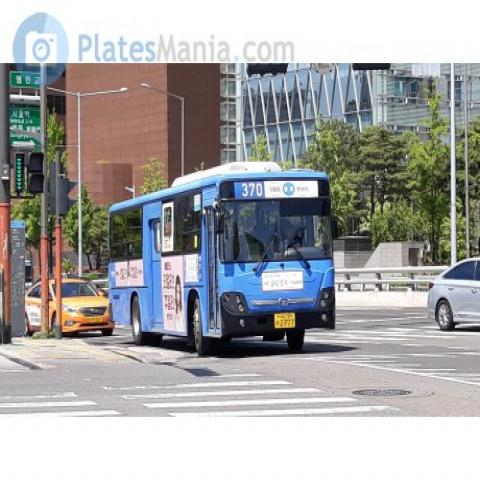LP: (270, 309, 302, 334)
